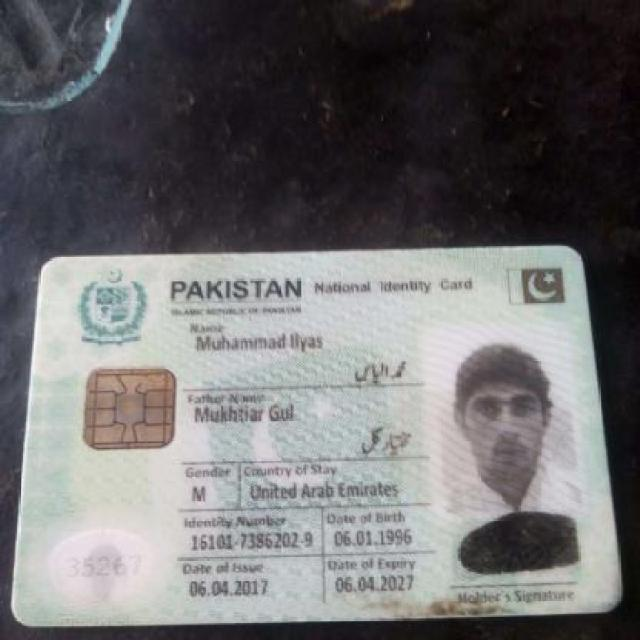Front: (16, 246, 624, 619)
